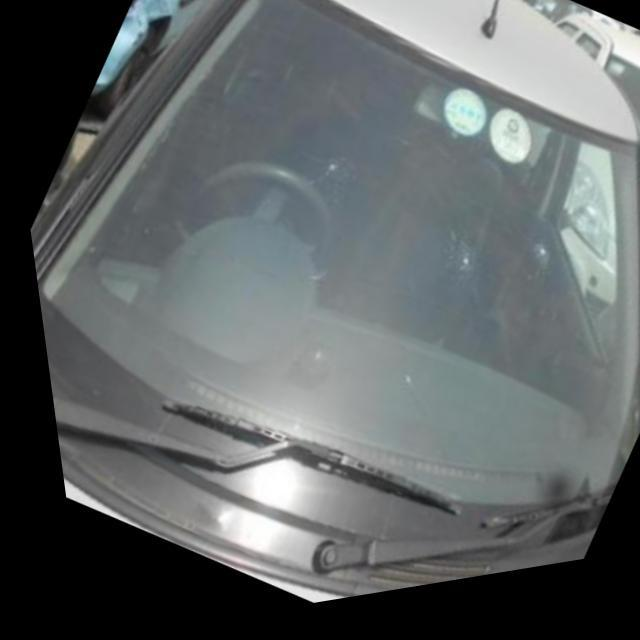glass shatter: (300, 150, 341, 199), (440, 257, 467, 289), (518, 257, 542, 286)
